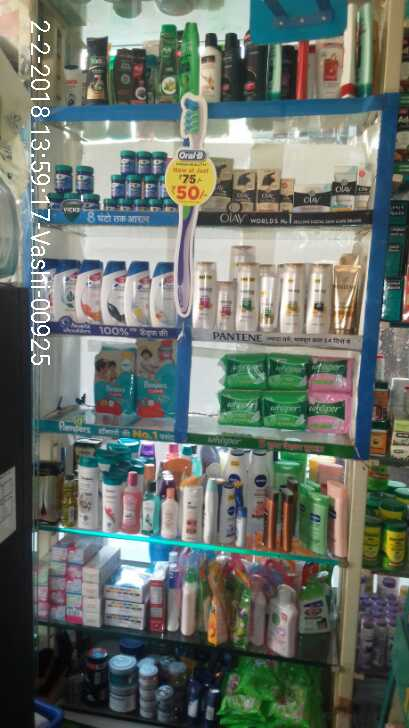beauty: (194, 254, 359, 333), (201, 151, 380, 217), (45, 248, 76, 318), (147, 265, 185, 322), (75, 255, 107, 321), (120, 255, 151, 322), (100, 262, 129, 322)
pharmacy: (43, 124, 182, 206), (86, 347, 136, 425), (138, 340, 170, 422), (306, 343, 355, 387), (254, 392, 306, 431), (262, 353, 312, 389), (218, 353, 269, 387), (213, 389, 261, 425), (309, 392, 349, 434)
